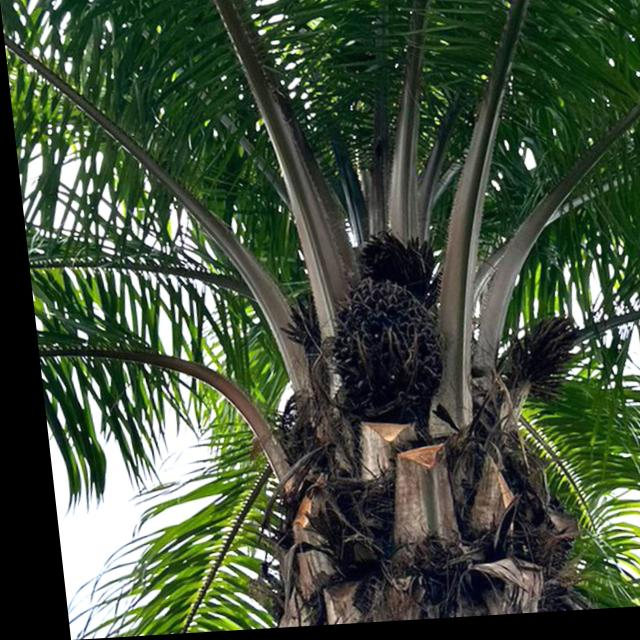ripe: (286, 258, 473, 436)
